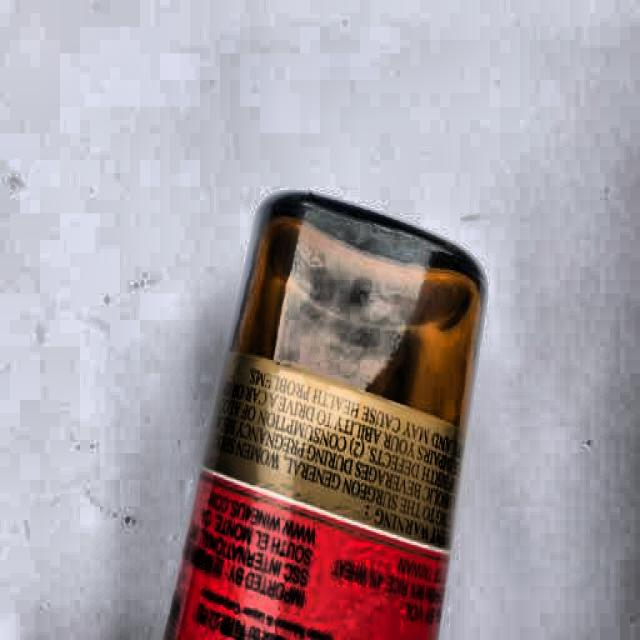glass: (180, 183, 492, 640)
